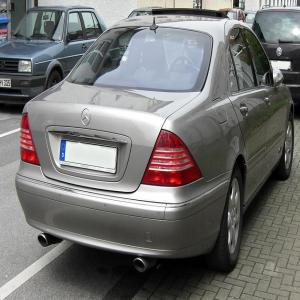Vehicle-registration-plate: (56, 131, 121, 179), (270, 61, 292, 70), (1, 80, 12, 88)
